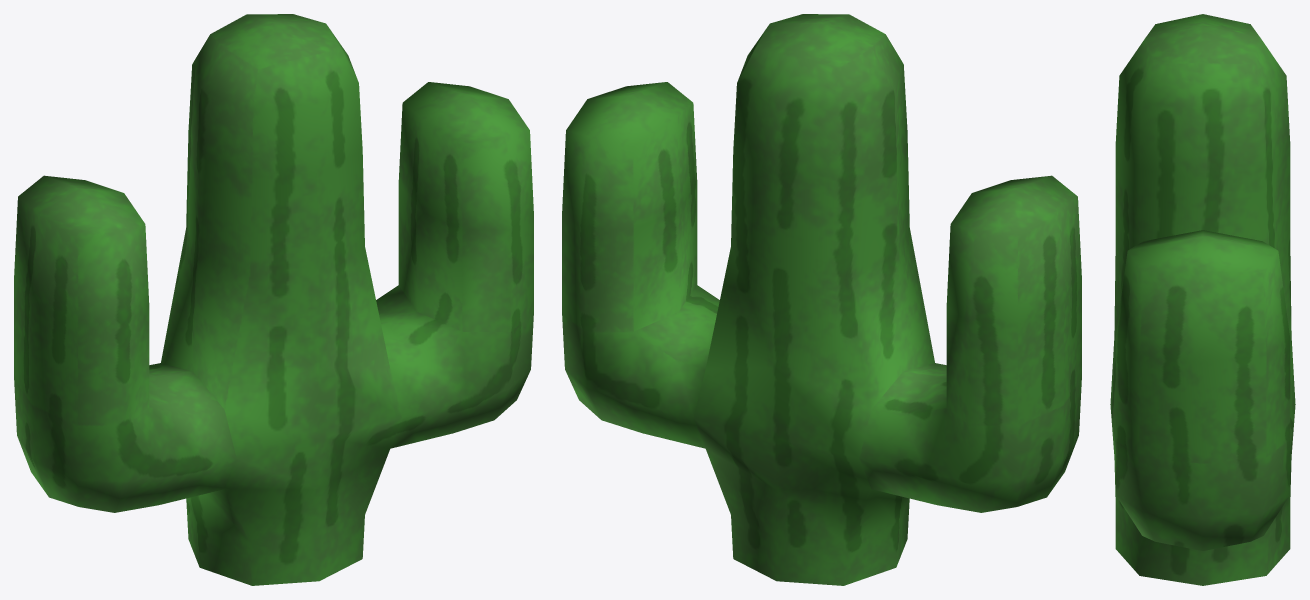
File: Cactus_2.fbx
3 views of the same model, side by side, from view 1: azimuth 30°, elevation 25°; view 2: azimuth 150°, elevation 25°; view 3: azimuth 270°, elevation 25° (orthographic).
Visible parts, largest first — view 1: Cactus_2; view 2: Cactus_2; view 3: Cactus_2.
Part boxes in pixels (x1,y1,x2,y2): Cactus_2: (14,14,533,585); Cactus_2: (562,14,1081,585); Cactus_2: (1110,14,1295,585).
Bounding box in the file's own units: 89.97 × 93.56 × 30.02.
1 material, 1 textured.
